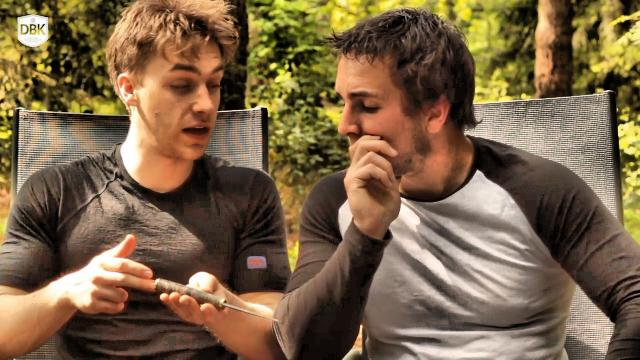knife: (151, 270, 285, 330)
